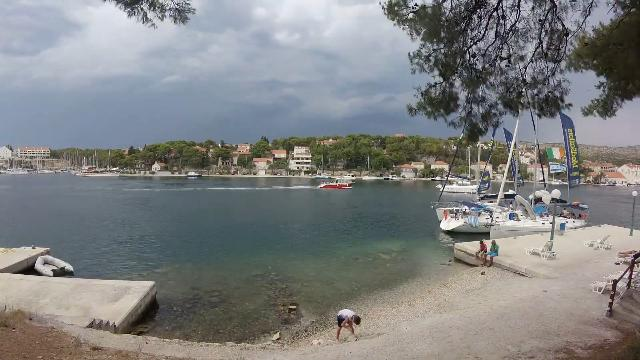speedboat: (315, 173, 357, 193)
